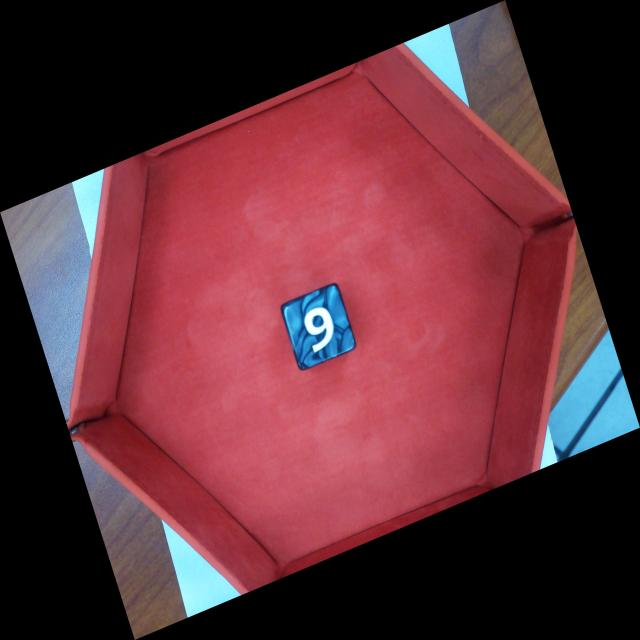dice: (281, 283, 357, 371)
